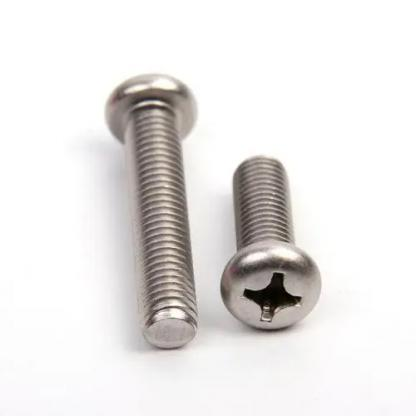FOD: (92, 53, 208, 356), (220, 144, 330, 339)
